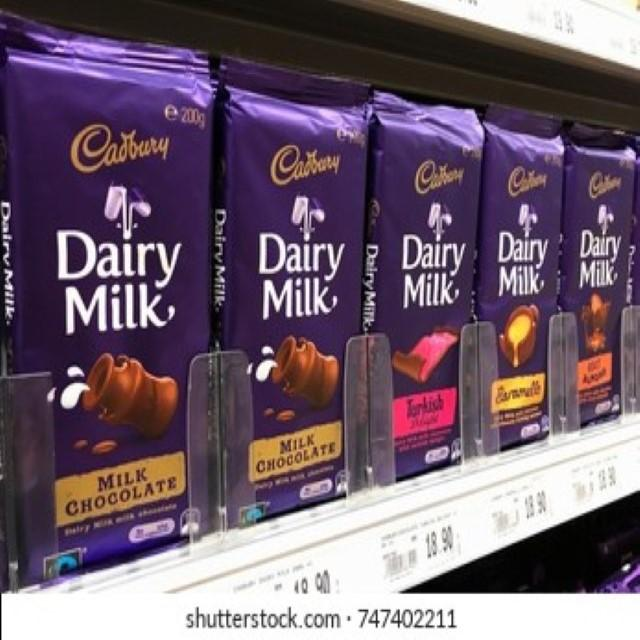cadbury_chocolate: (3, 18, 230, 578), (238, 60, 375, 517), (375, 107, 482, 470), (488, 115, 568, 450), (572, 128, 637, 420)
